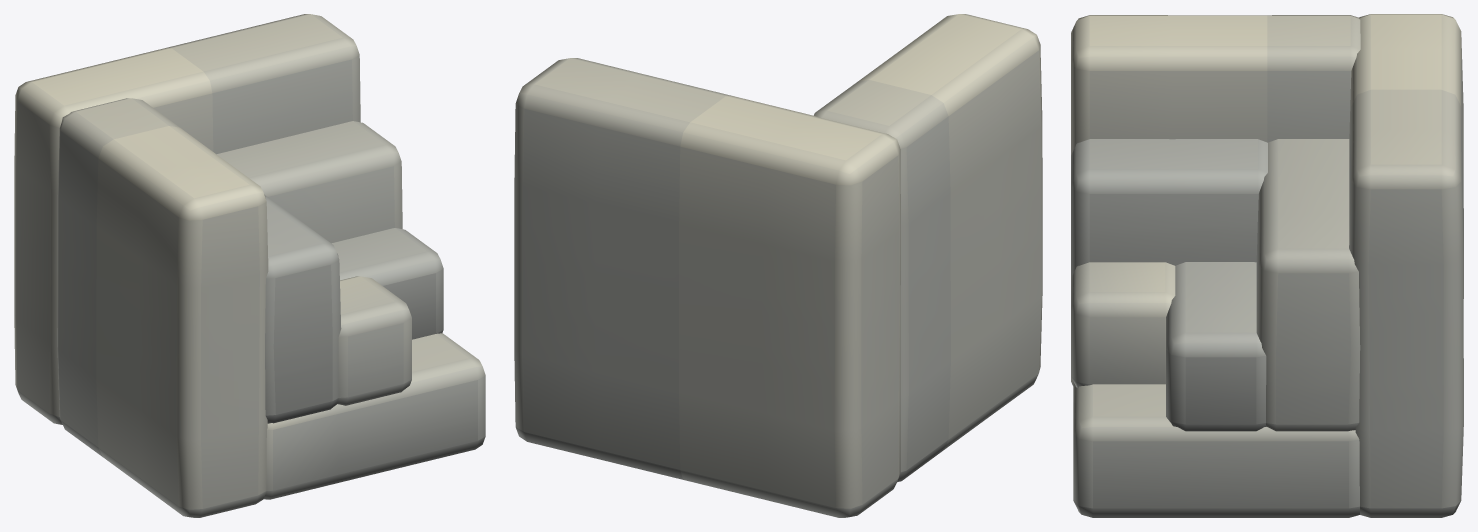
File: stair_stone1_corner_conc_LOD_setup.fbx
The picture shows the model from 3 angles, left to right: view 1: azimuth 30°, elevation 25°; view 2: azimuth 150°, elevation 25°; view 3: azimuth 270°, elevation 25°; orthographic projection. The views are drawn at different scales.
Parts seen in each view (by area): view 1: stair_stone1_corner_conc_LOD0; view 2: stair_stone1_corner_conc_LOD0; view 3: stair_stone1_corner_conc_LOD0.
Part boxes in pixels (left/top/right/bottom): stair_stone1_corner_conc_LOD0: left=14, top=14, right=485, bottom=517; stair_stone1_corner_conc_LOD0: left=514, top=14, right=1042, bottom=517; stair_stone1_corner_conc_LOD0: left=1071, top=14, right=1463, bottom=517.
Size of what is drawn, in the model's own units: 106 by 105 by 106.
